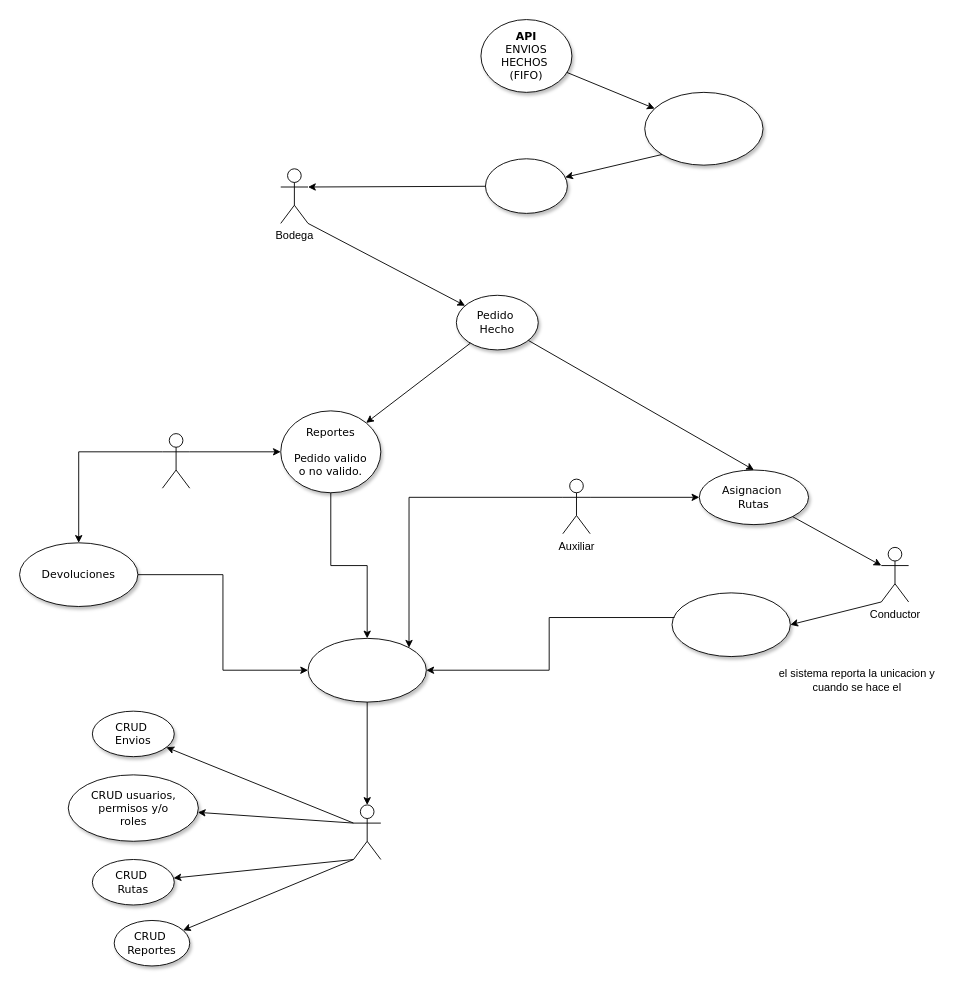
The diagram is 964 pixels wide and 988 high, and some of its shapes have lost their labels. Each missing label, with the centre of its shape:
(FIFO) PEDIDOS QUEUE: [527,187]
Admin: [367,831]
Calidad: [176,460]
Hacer entrega de Pedidos.: [731,625]
Informes e Inventario: [367,671]
Sistema recibe envios y genera Pedidos: [704,130]
